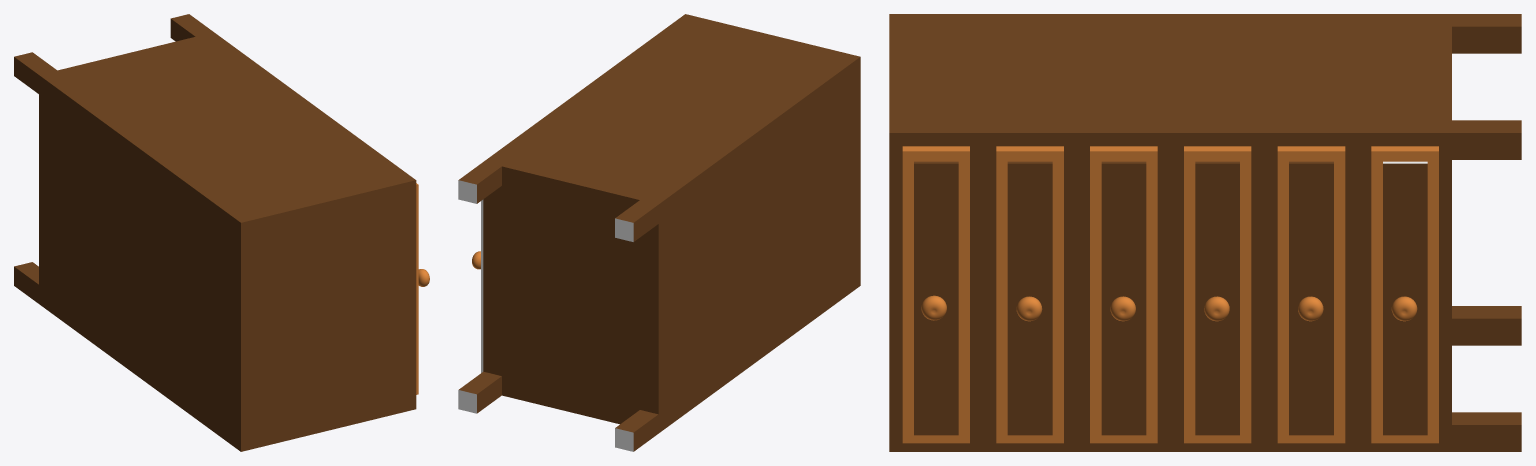
File: Cajonera1.fbx
3 views of the same model, side by side, from view 1: azimuth 30°, elevation 25°; view 2: azimuth 150°, elevation 25°; view 3: azimuth 270°, elevation 25° (orthographic). The views are drawn at different scales.
Visible parts, largest first — view 1: Model; view 2: Model; view 3: Model.
Boxes of the visible parts, <box> form: Model: <box>14,14,429,451</box>; Model: <box>458,14,860,451</box>; Model: <box>889,14,1521,451</box>.
Size of the model in its own units: 0.6568 by 0.71 by 1.27.
